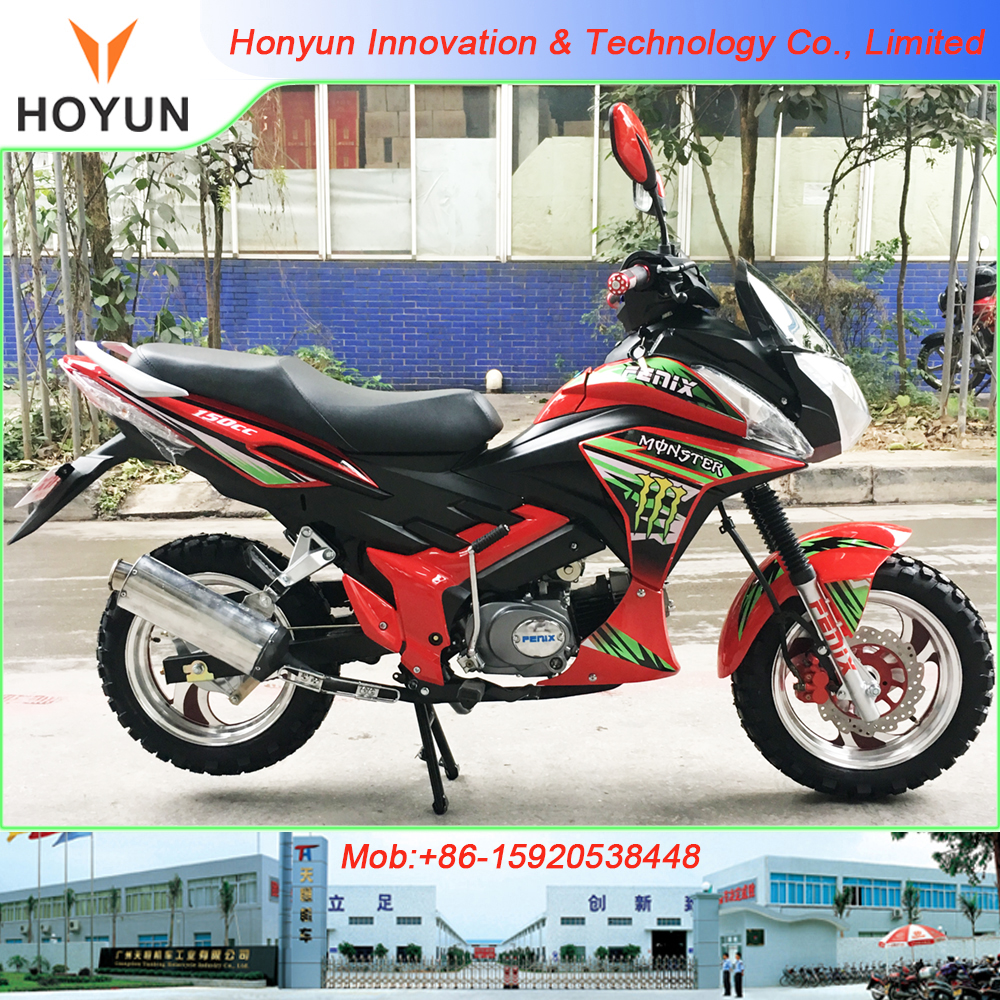motorbike: (22, 189, 1000, 815)
